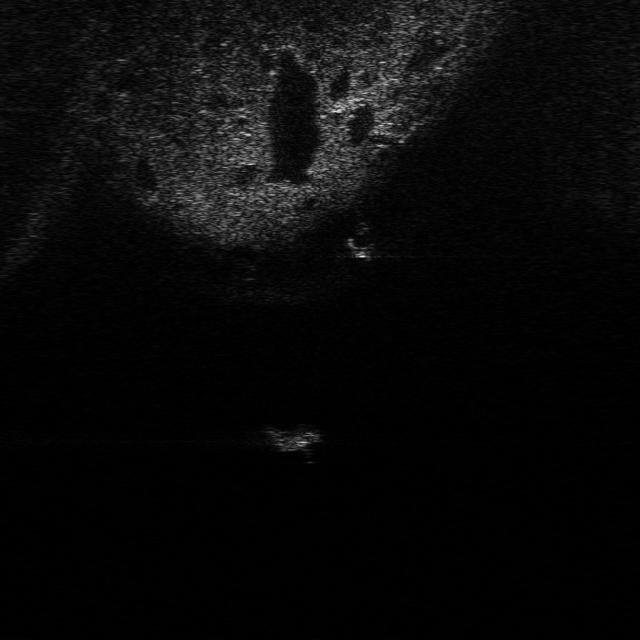ball: (343, 222, 379, 258)
cube: (254, 422, 324, 455)
